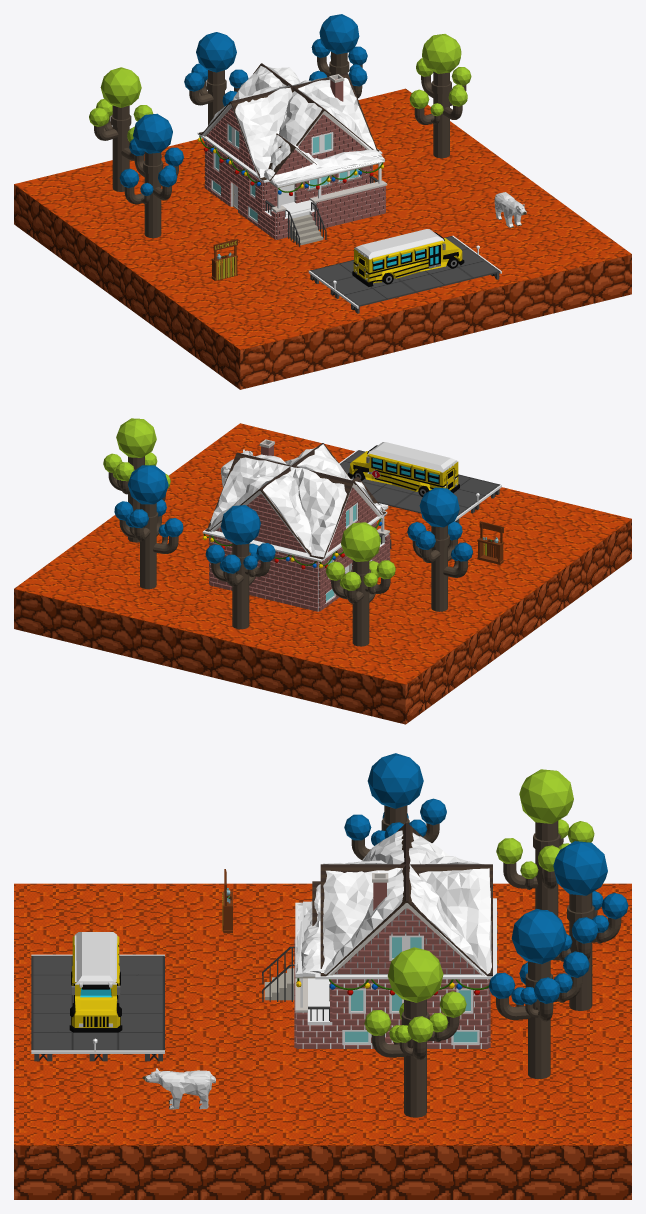
3 renders of one model, top to bottom at view 1: azimuth 30°, elevation 25°; view 2: azimuth 150°, elevation 25°; view 3: azimuth 270°, elevation 25°, orthographic. The views are drawn at different scales.
Visible parts, largest first — view 1: Cube.001, Cube.1419, VEHICLES_SCHOOL_BUS, OBJRANDOM_LEMONADE_STAND, ANIMAL_OSO_POLAR; view 2: Cube.001, Cube.1419, VEHICLES_SCHOOL_BUS, OBJRANDOM_LEMONADE_STAND; view 3: Cube.001, Cube.1419, VEHICLES_SCHOOL_BUS, ANIMAL_OSO_POLAR.
Boxes of the visible parts, <box> form: Cube.001: <box>14,14,631,389</box>; Cube.1419: <box>197,63,387,246</box>; VEHICLES_SCHOOL_BUS: <box>352,229,464,286</box>; OBJRANDOM_LEMONADE_STAND: <box>211,239,237,280</box>; ANIMAL_OSO_POLAR: <box>494,192,526,228</box>; Cube.001: <box>14,418,631,724</box>; Cube.1419: <box>202,439,391,611</box>; VEHICLES_SCHOOL_BUS: <box>348,442,459,496</box>; OBJRANDOM_LEMONADE_STAND: <box>477,521,503,564</box>; Cube.001: <box>14,753,631,1199</box>; Cube.1419: <box>262,823,497,1048</box>; VEHICLES_SCHOOL_BUS: <box>69,932,122,1032</box>; ANIMAL_OSO_POLAR: <box>142,1068,215,1109</box>.
Size of the model in its own units: 4000 by 1687 by 4000.
Materials: 46 (5 with a texture image).
